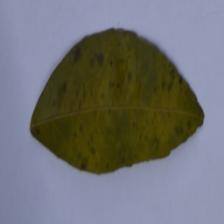greening: (55, 78, 180, 156)
